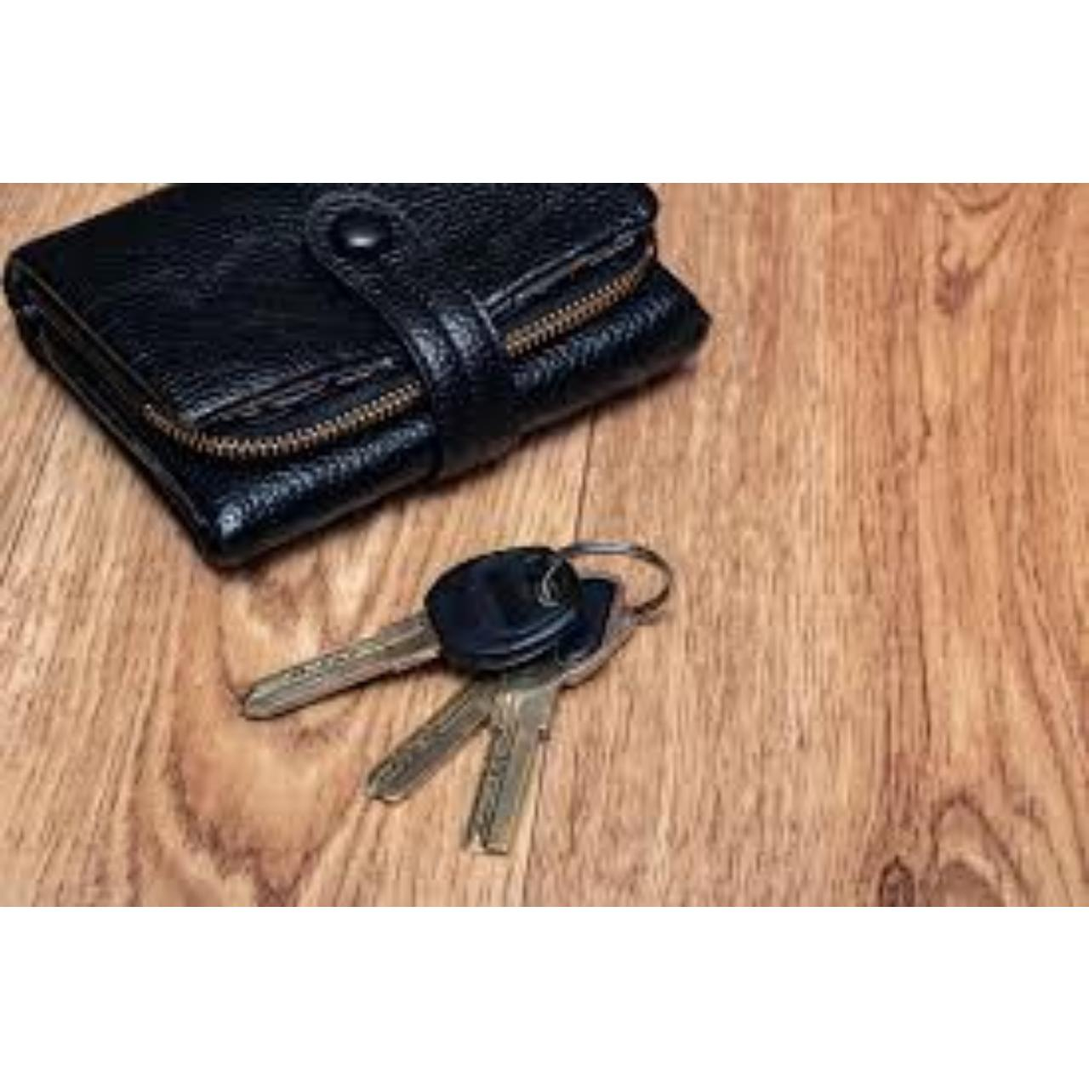wallet: (16, 182, 752, 519)
